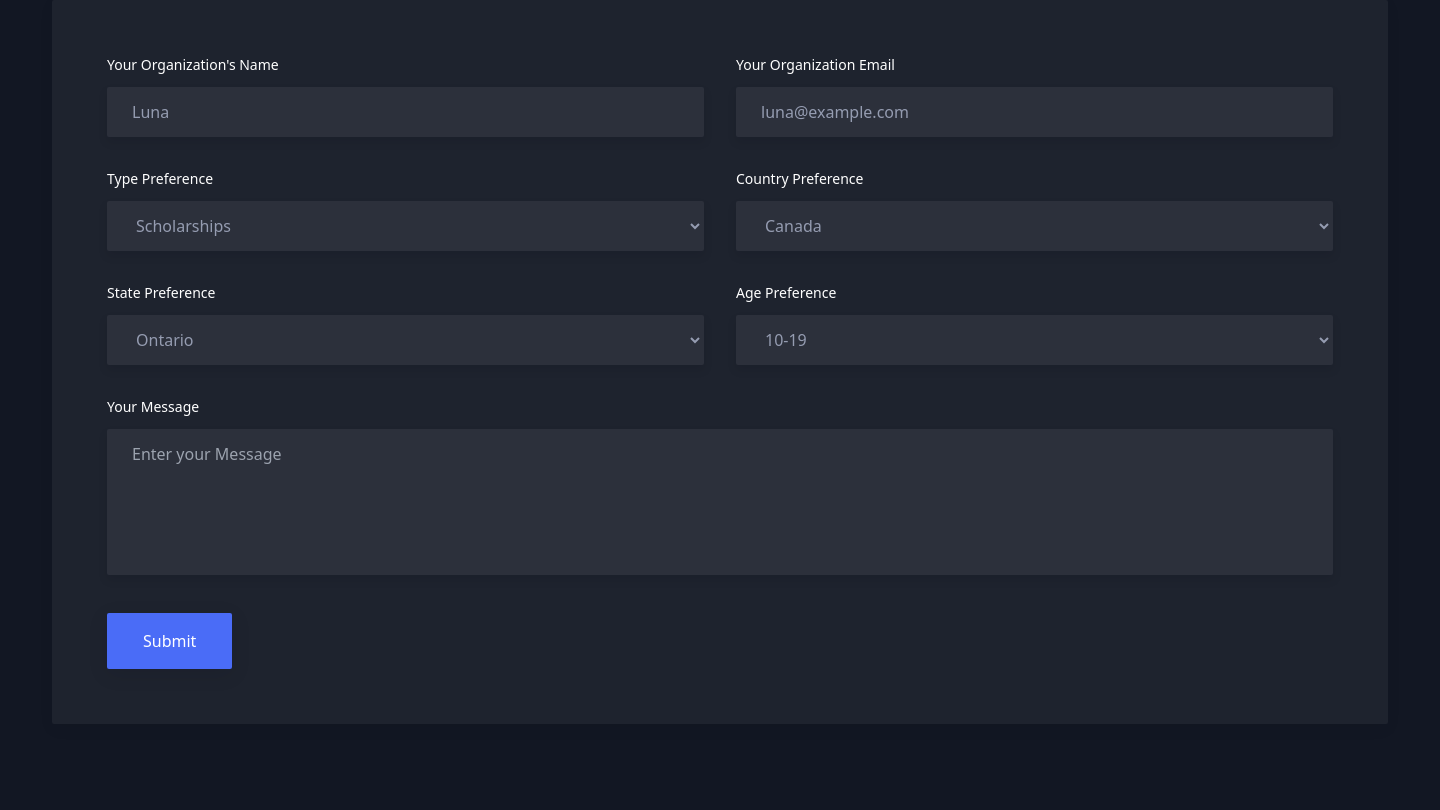
Test case: FundraiserOccasion › resets state to one belonging to a newly selected country
Select "United States" in the dropdown labelled "Country Preference" at (1034, 226), box [736,201,1333,251]
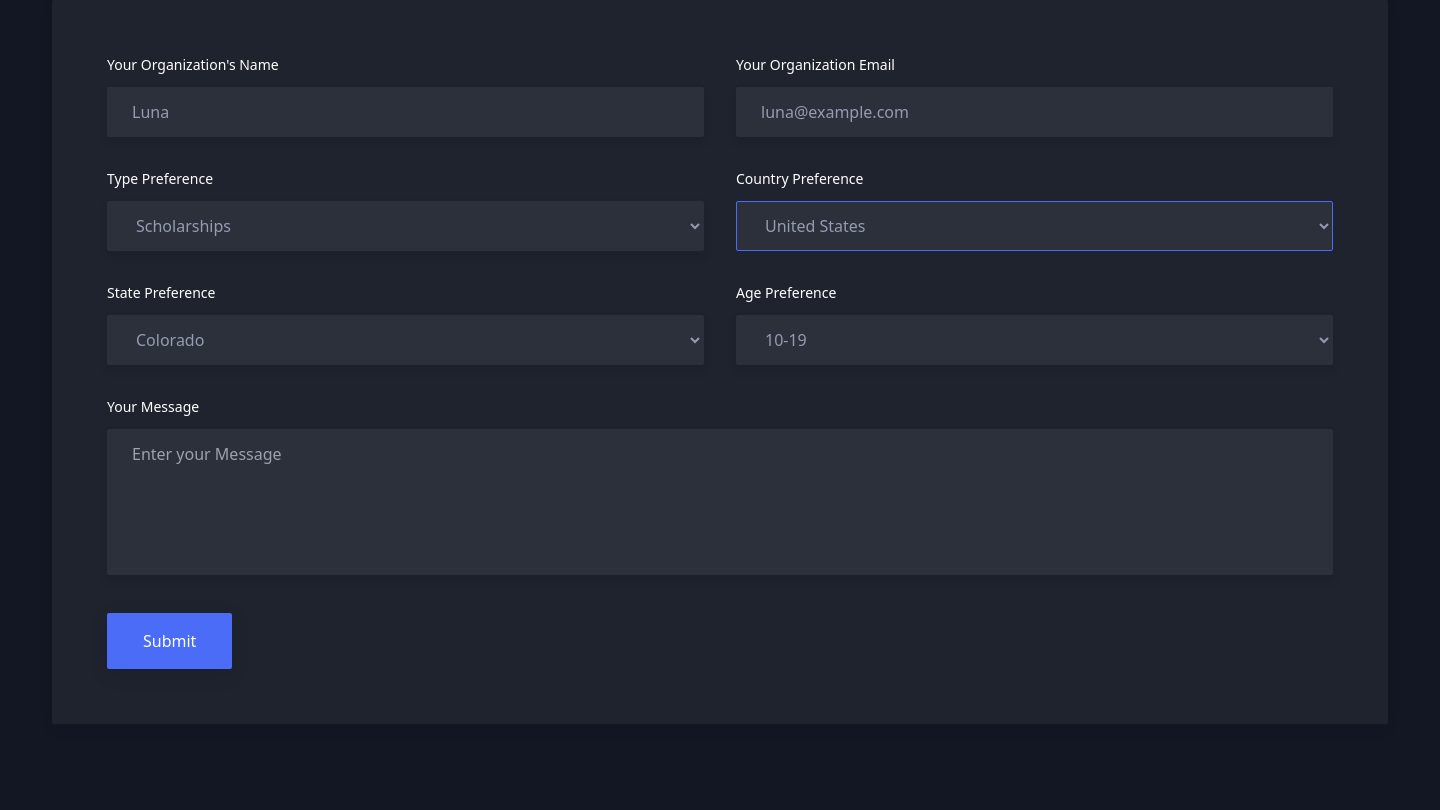
expect the dropdown labelled "State Preference" shows "Colorado": met, box [107,315,704,365]
